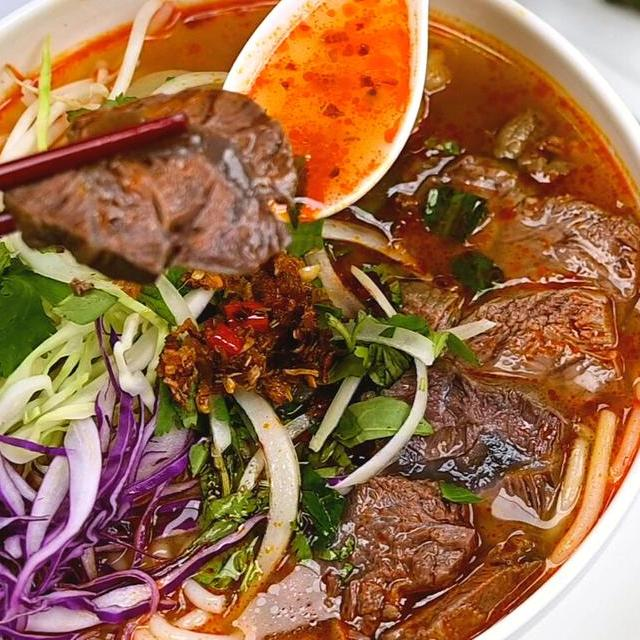bun: (539, 368, 640, 579), (52, 561, 243, 640)
bun bo: (0, 0, 622, 640)
thit bo: (0, 80, 305, 289), (377, 138, 640, 357), (230, 467, 490, 640), (367, 276, 633, 420), (348, 346, 580, 504), (367, 522, 549, 640)
